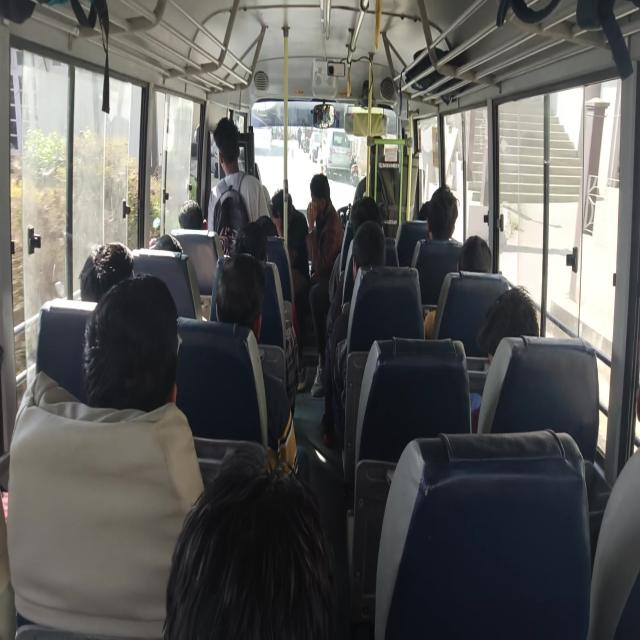person: (6, 272, 205, 638), (162, 443, 337, 639), (214, 252, 298, 475), (322, 219, 386, 447), (81, 273, 180, 412), (469, 284, 540, 432), (207, 116, 271, 253), (306, 172, 344, 397), (270, 188, 310, 390), (423, 235, 492, 339), (410, 185, 461, 268), (305, 172, 343, 280), (79, 240, 134, 302), (425, 185, 460, 242), (457, 235, 492, 273), (178, 199, 204, 229)
